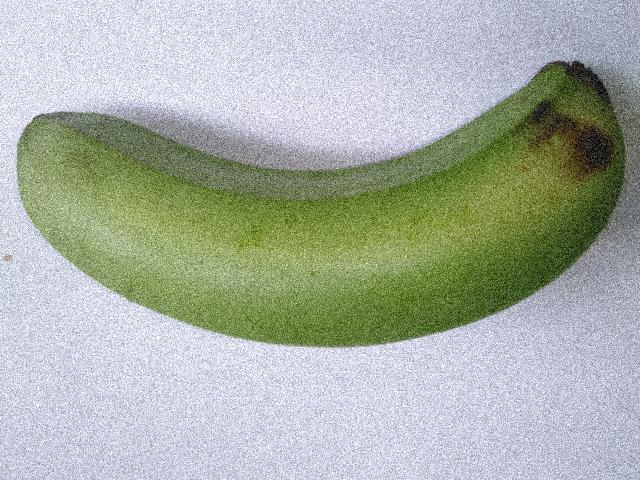freshunripe: (7, 50, 639, 371)
